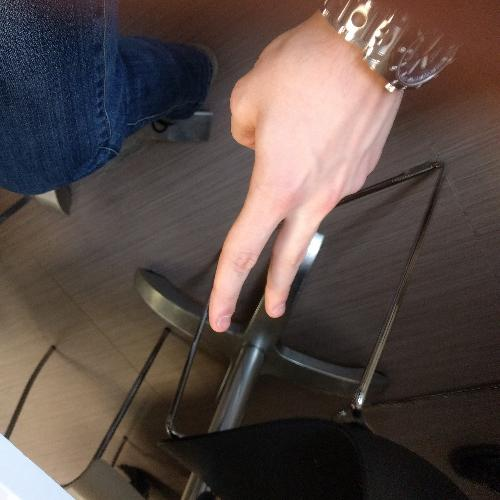scissors: (201, 12, 409, 342)
